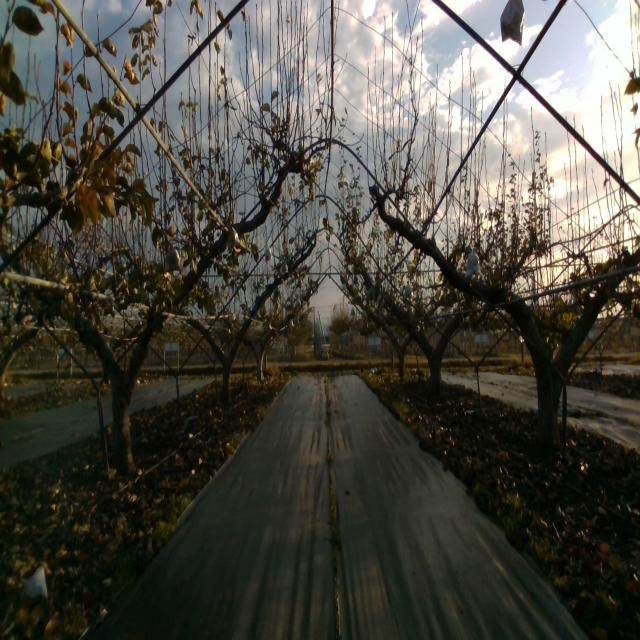pearbags: (500, 0, 525, 44), (164, 245, 183, 275), (464, 249, 480, 279), (226, 225, 240, 249)
